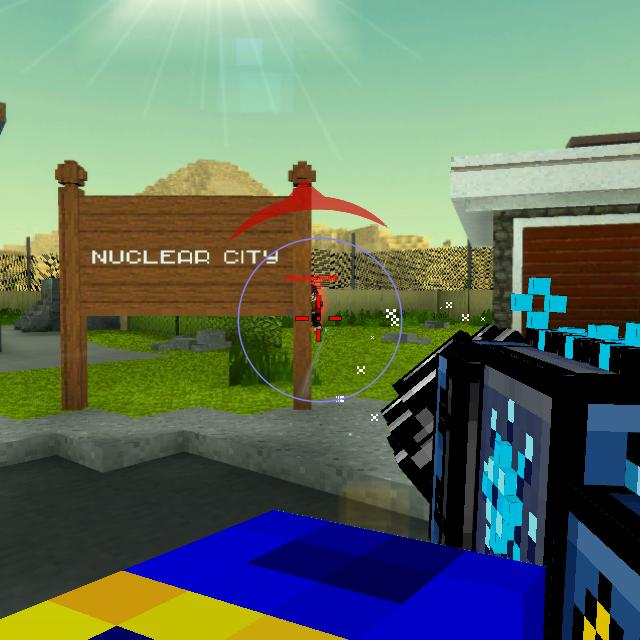Enemy: (312, 286, 323, 330)
